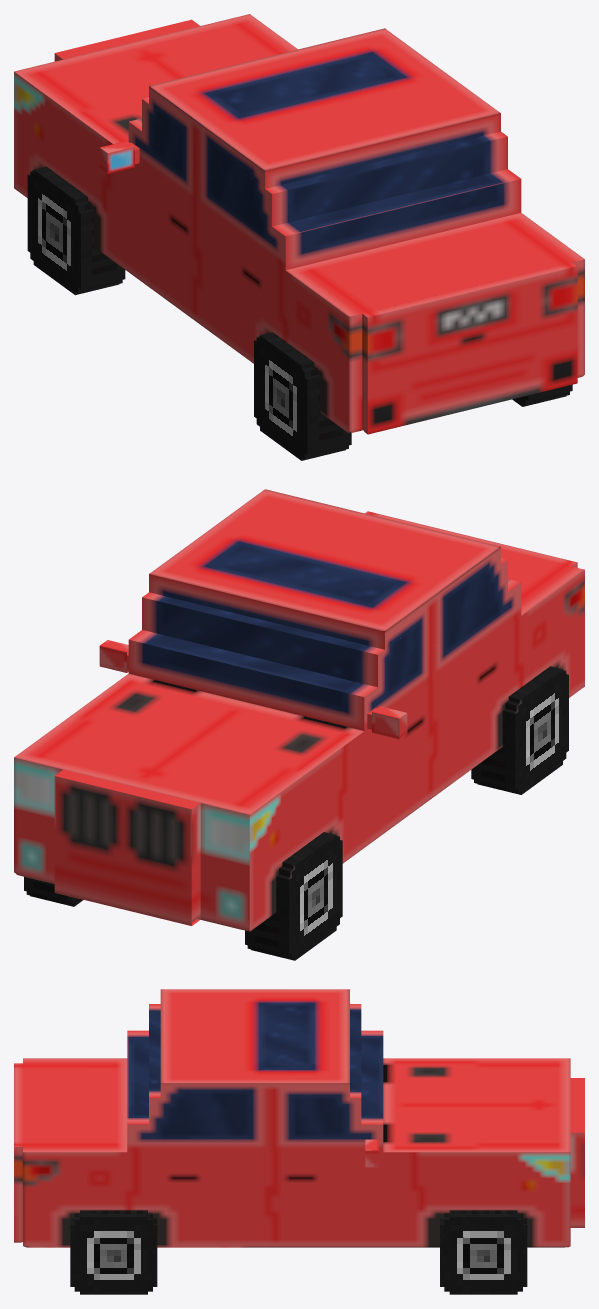
The model's file is BGN_BMW .fbx.
3 views of the same model, one above another, from view 1: azimuth 30°, elevation 25°; view 2: azimuth 150°, elevation 25°; view 3: azimuth 270°, elevation 25° (orthographic). The views are drawn at different scales.
Parts seen in each view (by area): view 1: BGN_BMW_, R_R__5_, R_R__6_, R_R__8_; view 2: BGN_BMW_, R_R__5_, R_R__6_, R_R__7_; view 3: BGN_BMW_, R_R__7_, R_R__8_.
Part boxes in pixels (bbox=[...]): BGN_BMW_: bbox=[14, 14, 584, 434]; R_R__5_: bbox=[27, 166, 125, 295]; R_R__6_: bbox=[254, 332, 351, 460]; R_R__8_: bbox=[512, 384, 572, 406]; BGN_BMW_: bbox=[14, 489, 584, 931]; R_R__5_: bbox=[245, 832, 342, 960]; R_R__6_: bbox=[471, 666, 568, 794]; R_R__7_: bbox=[24, 877, 83, 906]; BGN_BMW_: bbox=[14, 989, 584, 1247]; R_R__7_: bbox=[440, 1210, 527, 1294]; R_R__8_: bbox=[70, 1210, 157, 1294].
Bounding box in the file's own units: 190 × 152 × 383.
2 materials, 2 textured.
